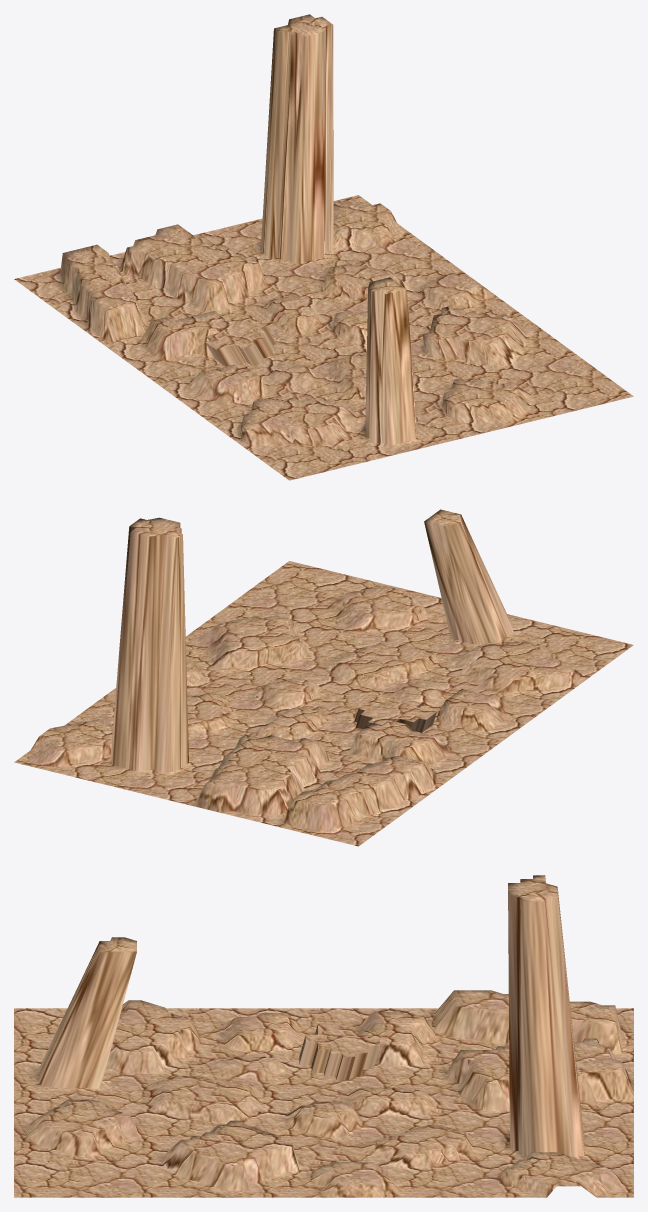
Rendered from desertterrain.fbx.
The picture shows the model from 3 angles, top to bottom: view 1: azimuth 30°, elevation 25°; view 2: azimuth 150°, elevation 25°; view 3: azimuth 270°, elevation 25°; orthographic projection. The views are drawn at different scales.
Visible parts, largest first — view 1: pPlane1; view 2: pPlane1; view 3: pPlane1.
Part boxes in pixels (x1,y1,x2,y2): pPlane1: (14, 14, 633, 480); pPlane1: (14, 509, 633, 846); pPlane1: (14, 875, 633, 1197).
Bounding box in the file's own units: 197 × 124 × 273.
Materials: 1 (1 with a texture image).
